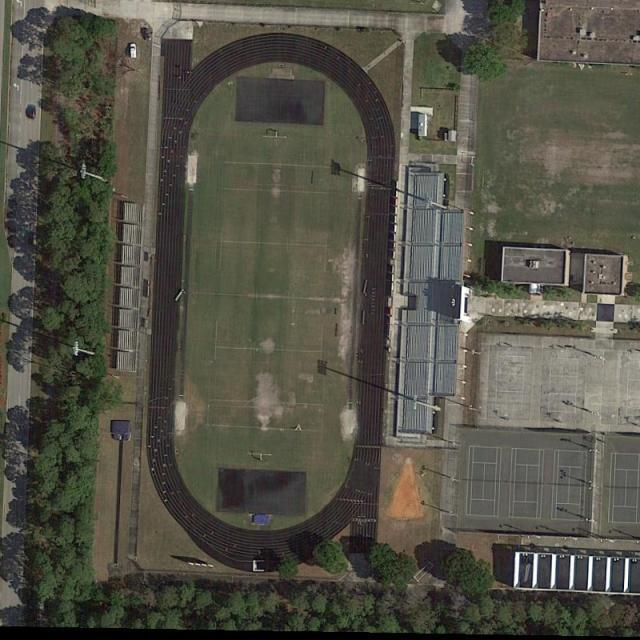vehicle: (130, 44, 138, 58), (30, 107, 37, 120), (145, 29, 152, 42)
